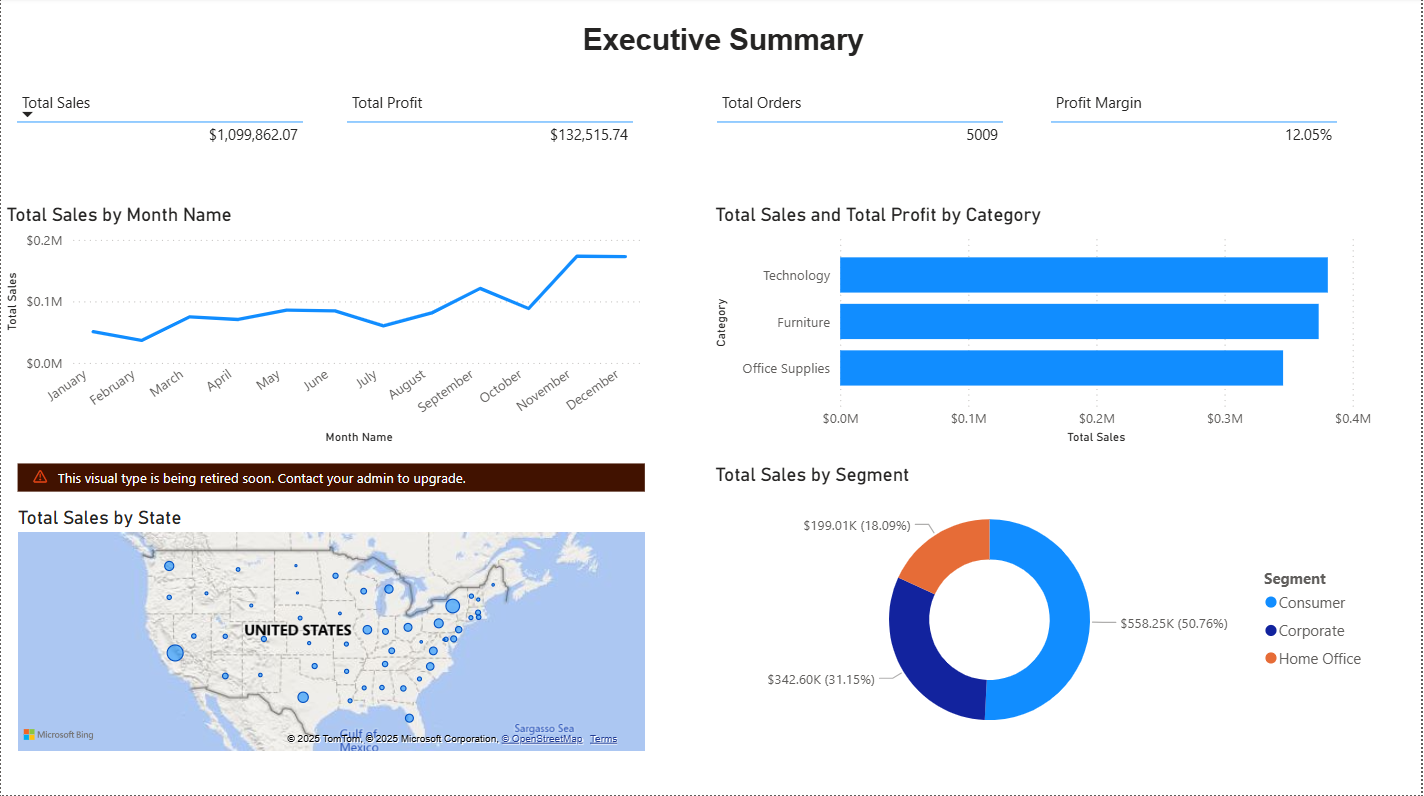

The page's visual inventory and layout, read from the dashboard file:
{"tool":"powerbi","page":{"name":"Executive Summary","canvas":[1280,720],"ordinal":0},"visuals":[{"type":"tableEx","fields":{"Values":["_Measures.Total Sales"]},"box":[7.5,79,279.6,87.8],"z":0},{"type":"tableEx","fields":{"Values":["_Measures.Total Profit"]},"box":[306,79,279.6,87.8],"z":1000},{"type":"tableEx","fields":{"Values":["_Measures.Total Orders"]},"box":[639.5,79,279.6,87.8],"z":2000},{"type":"tableEx","fields":{"Values":["_Measures.Profit Margin"]},"box":[940.4,79,279.6,87.8],"z":3000},{"type":"lineChart","fields":{"Category":["DimDate.Month Name"],"Y":["_Measures.Total Sales"]},"box":[0,185.6,585.6,221.9],"z":4000},{"type":"map","fields":{"Category":["DimRegion.State"],"Size":["_Measures.Total Sales"]},"box":[10,420.1,575.6,264.6],"z":5000},{"type":"barChart","fields":{"Category":["DimProduct.Category"],"Y":["_Measures.Total Sales"]},"box":[639.5,185.6,601.9,221.9],"z":6000},{"type":"donutChart","fields":{"Category":["DimCustomer.Segment"],"Y":["_Measures.Total Sales"]},"box":[639.5,420.1,601.9,263.3],"z":7000},{"type":"textbox","box":[519.1,18.8,273.4,60.2],"z":8000}]}

Visuals, with their boxes in screenshot pixels (x1, y1, x2, y2), scaled from the page's 1280x720 canvas onto the 1424x796 screenshot:
tableEx - _Measures.Total Sales: 8:87:319:184
tableEx - _Measures.Total Profit: 340:87:651:184
tableEx - _Measures.Total Orders: 711:87:1022:184
tableEx - _Measures.Profit Margin: 1046:87:1357:184
lineChart - DimDate.Month Name x _Measures.Total Sales: 0:205:651:451
map - DimRegion.State x _Measures.Total Sales: 11:464:651:757
barChart - DimProduct.Category x _Measures.Total Sales: 711:205:1381:451
donutChart - DimCustomer.Segment x _Measures.Total Sales: 711:464:1381:756
textbox: 577:21:882:87
